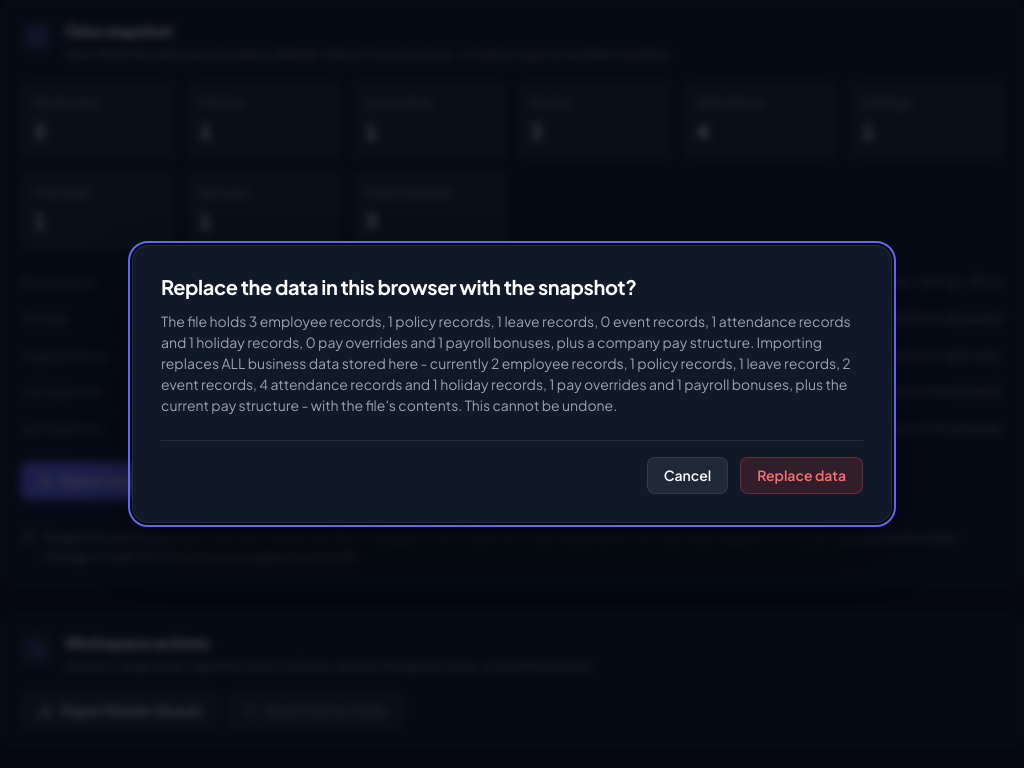
Scenario: Admin snapshot card — import › leaves everything untouched when the question is cancelled
Earlier steps of the test are not shown.
Step 1. Click the button "Cancel" → coordinates (687, 475), box [647,457,728,494]
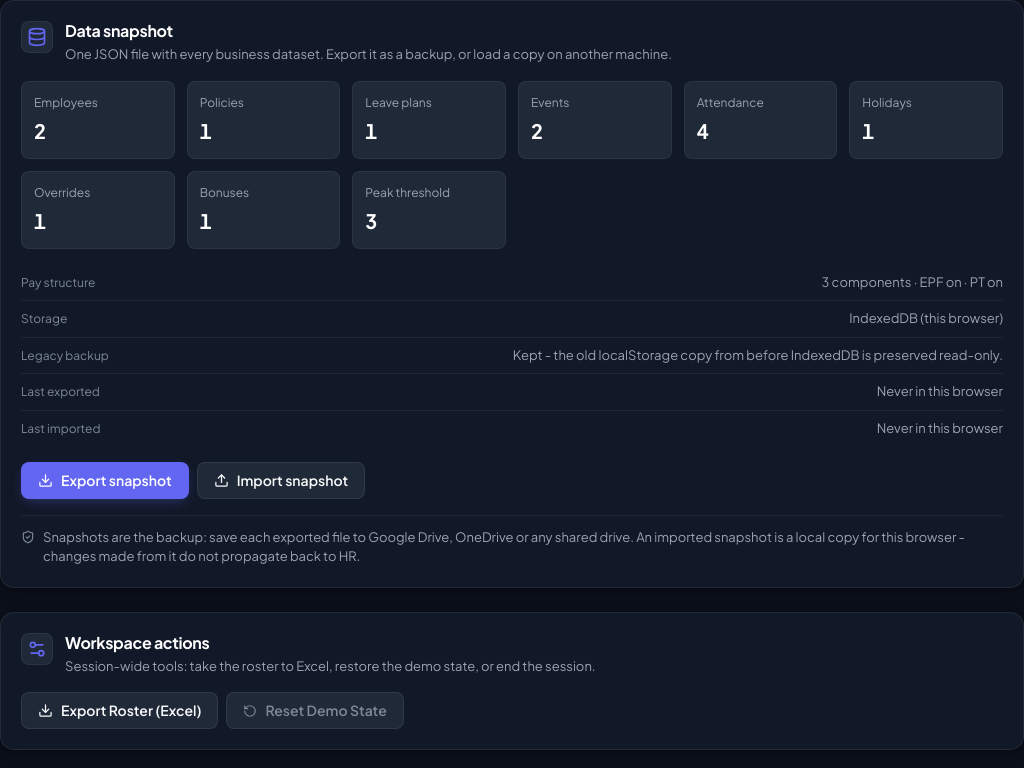
Result: the dialog is gone
